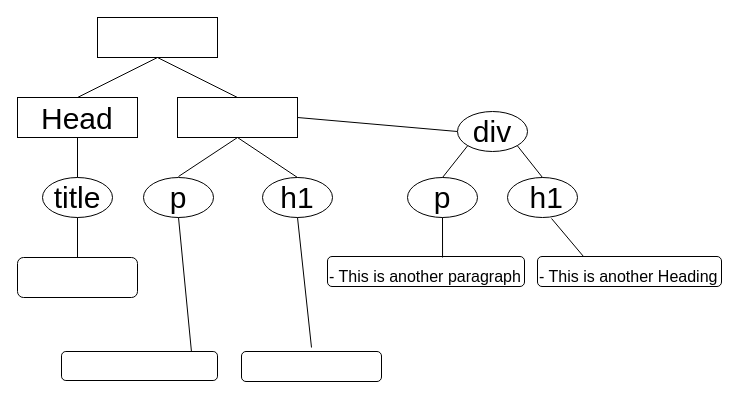
Some shapes in this 739 by 402 pixel diagram are drawn without their labels. Each missing label, with the centre of its shape:
"- Page Title" belongs at point 77,277.
"- This is a Heading" belongs at point 311,366.
"- This is a paragraph" belongs at point 139,365.
"Body" belongs at point 237,117.
"HTML" belongs at point 157,37.
